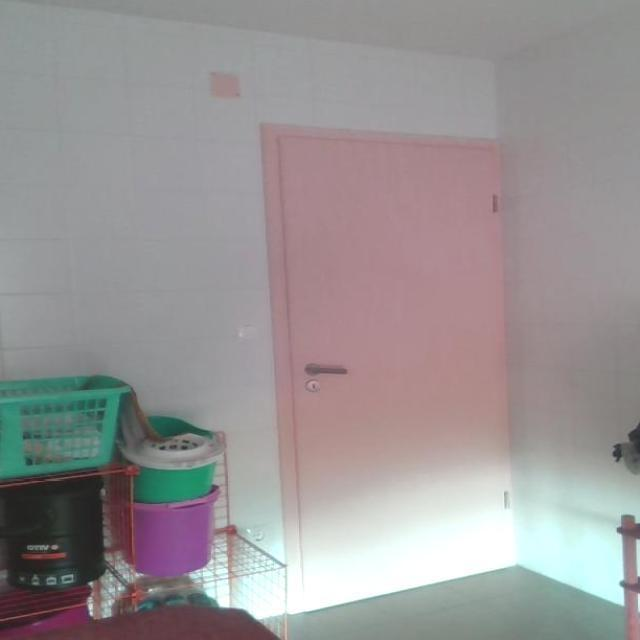door: (260, 121, 515, 613)
